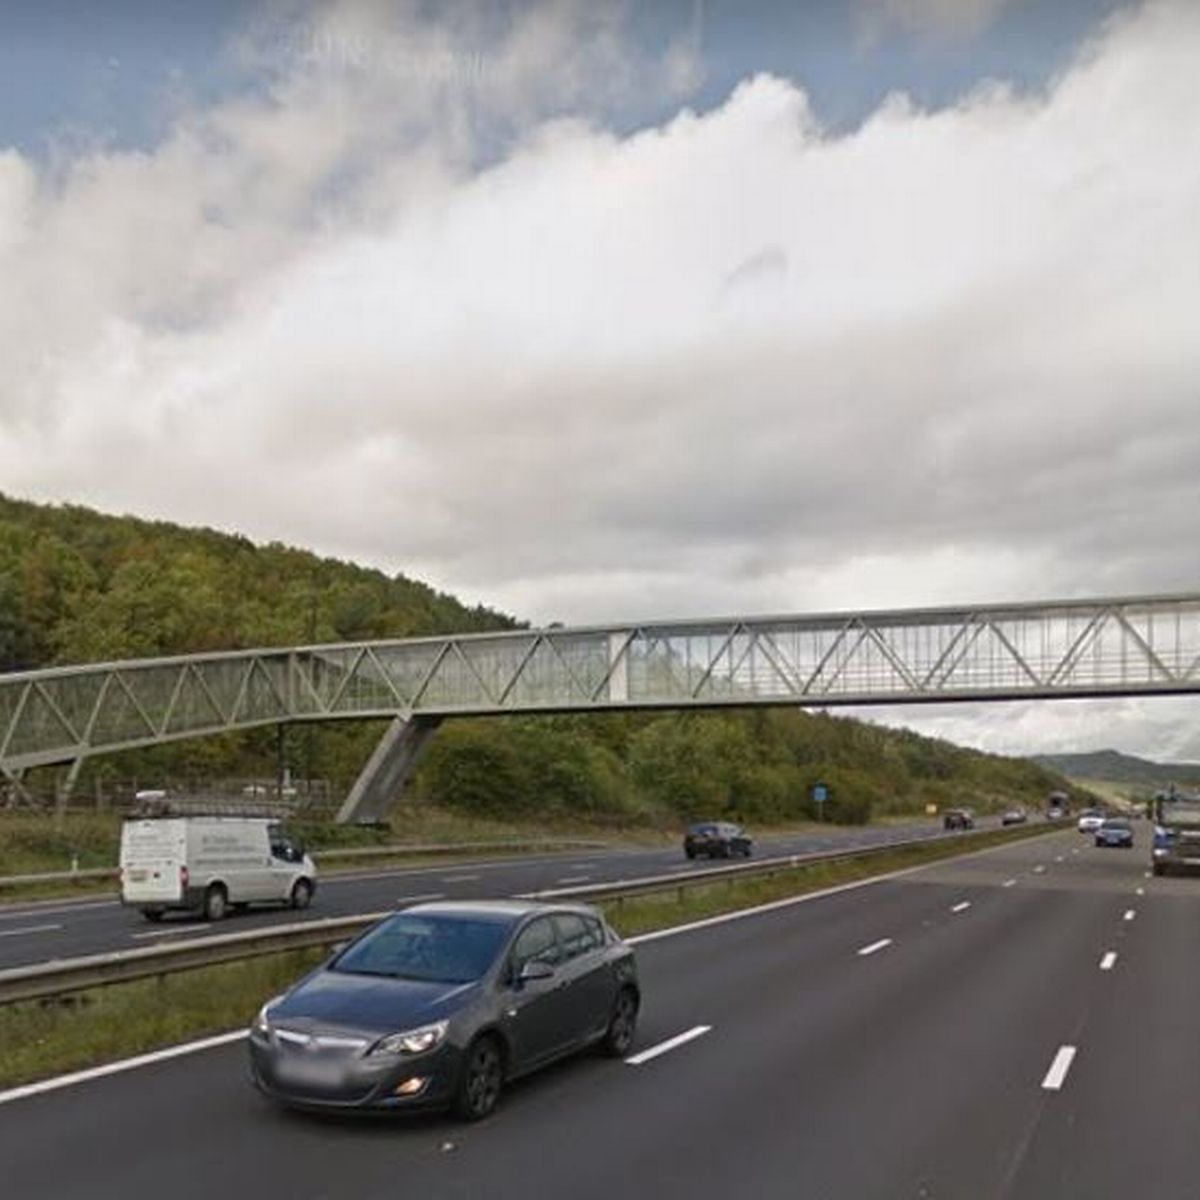bridge: (1, 591, 1198, 775)
